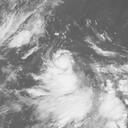cyclone: (28, 55, 94, 125)
